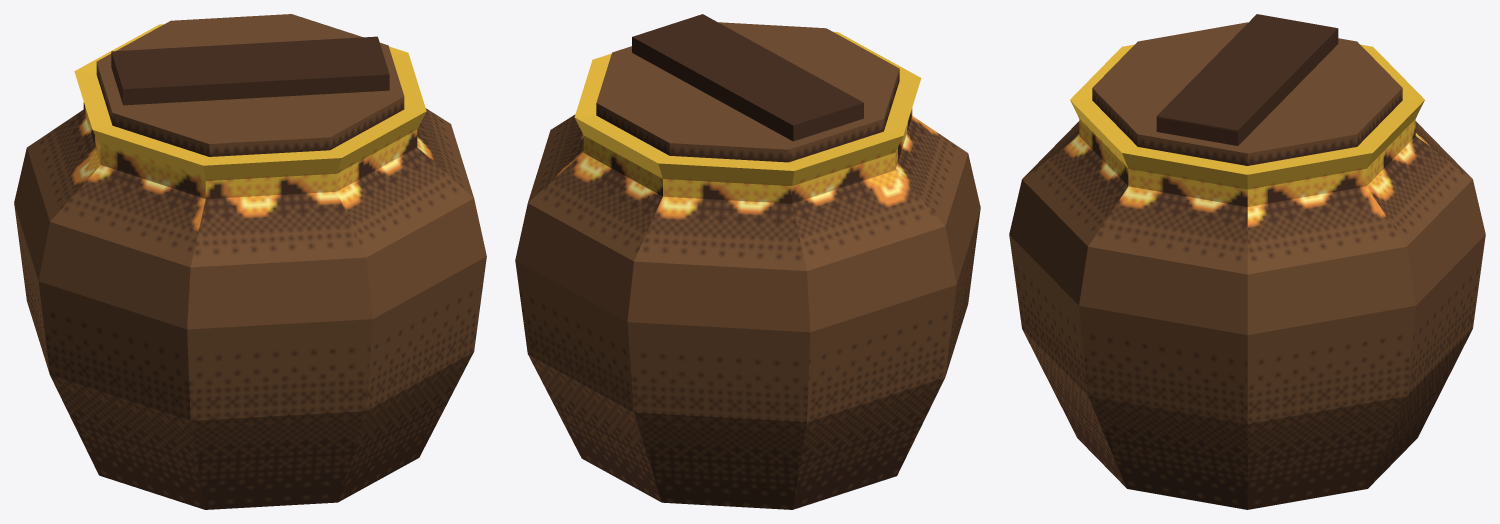
The model's file is Honeypot.dae.
3 views of the same model, side by side, from view 1: azimuth 30°, elevation 25°; view 2: azimuth 150°, elevation 25°; view 3: azimuth 270°, elevation 25° (orthographic). The views are drawn at different scales.
Visible parts, largest first — view 1: Circle; view 2: Circle; view 3: Circle.
Part boxes in pixels (x1=…): Circle: x1=14, y1=14, x2=486, y2=509; Circle: x1=515, y1=14, x2=980, y2=509; Circle: x1=1009, y1=14, x2=1485, y2=509.
Bounding box in the file's own units: 2.8 × 2.37 × 2.8.
Materials: 1 (1 with a texture image).
